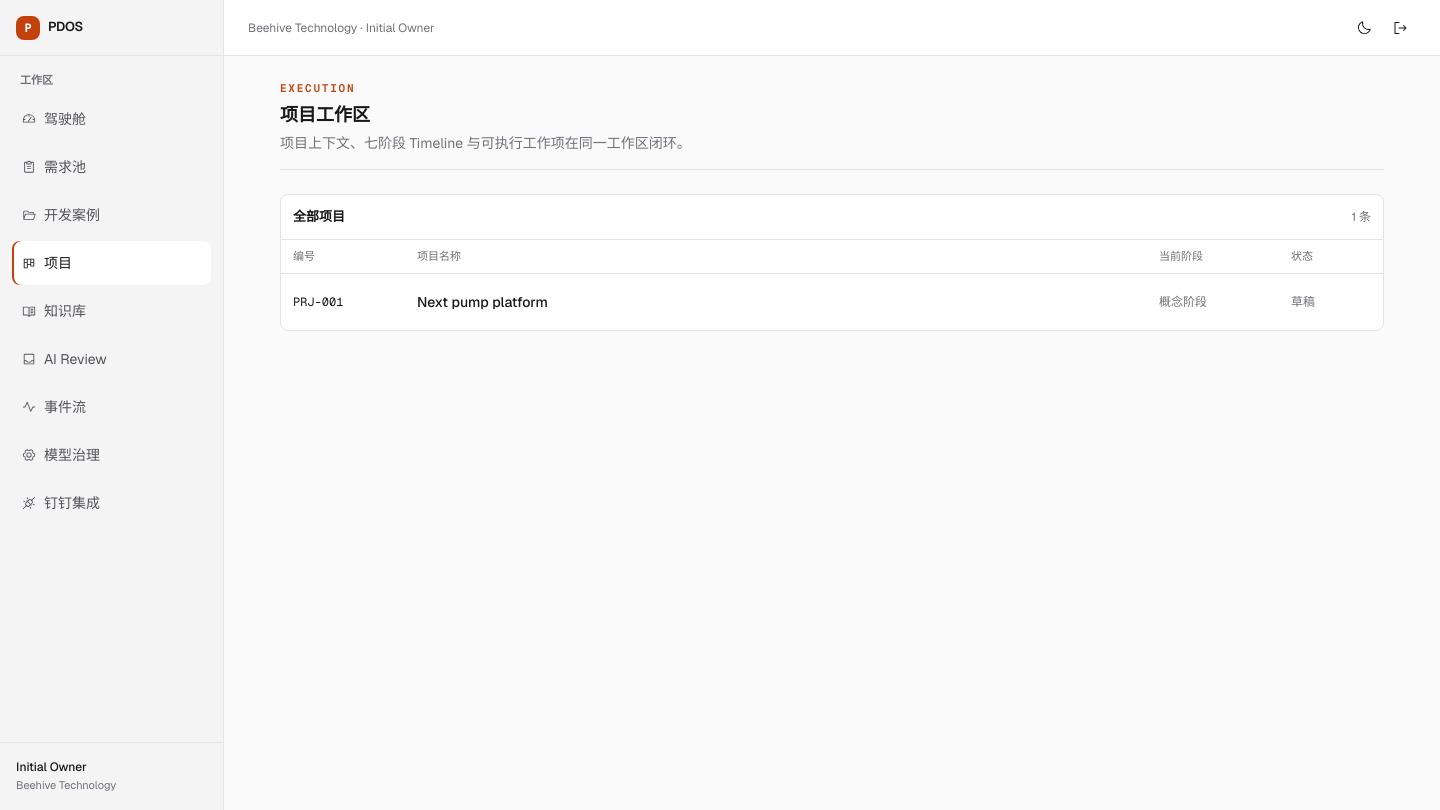
Test: ProjectWorkspace › renders the internal tabs and keeps dependency waiting distinct from blocked
The width and height of the screenshot is (1440, 810).
Click the button with aria-label "打开项目 PRJ-001". click: (318, 302)
box: [281,274,1383,330]
(page scrolled)
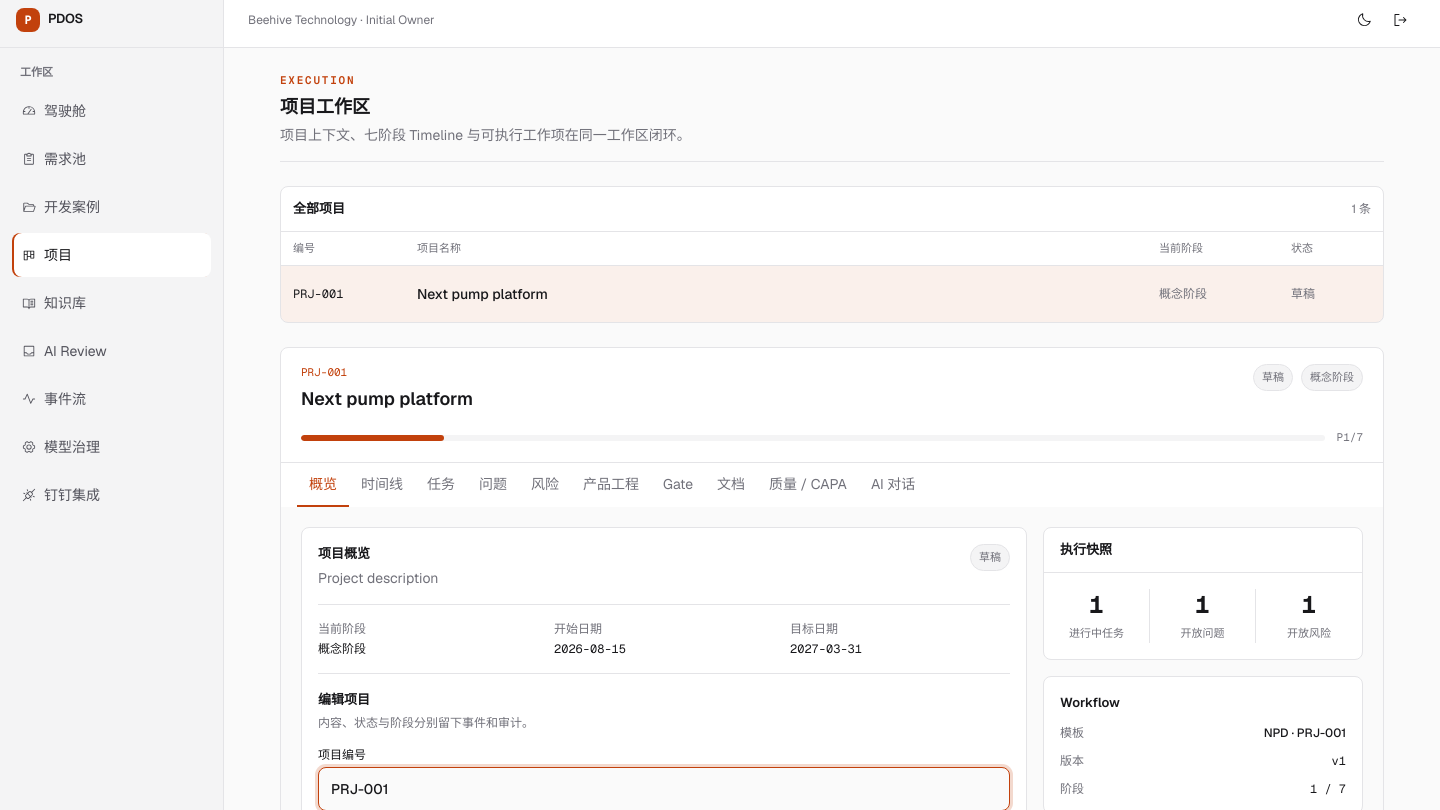
Expected: the number of tabs is 10
Expected: the tab "AI 对话" is shown, [859,463,927,507]
Expected: the tab "产品工程" is shown, [571,463,651,507]
Click the tab "任务". click: (441, 485)
box: [415,463,467,507]
(page scrolled)
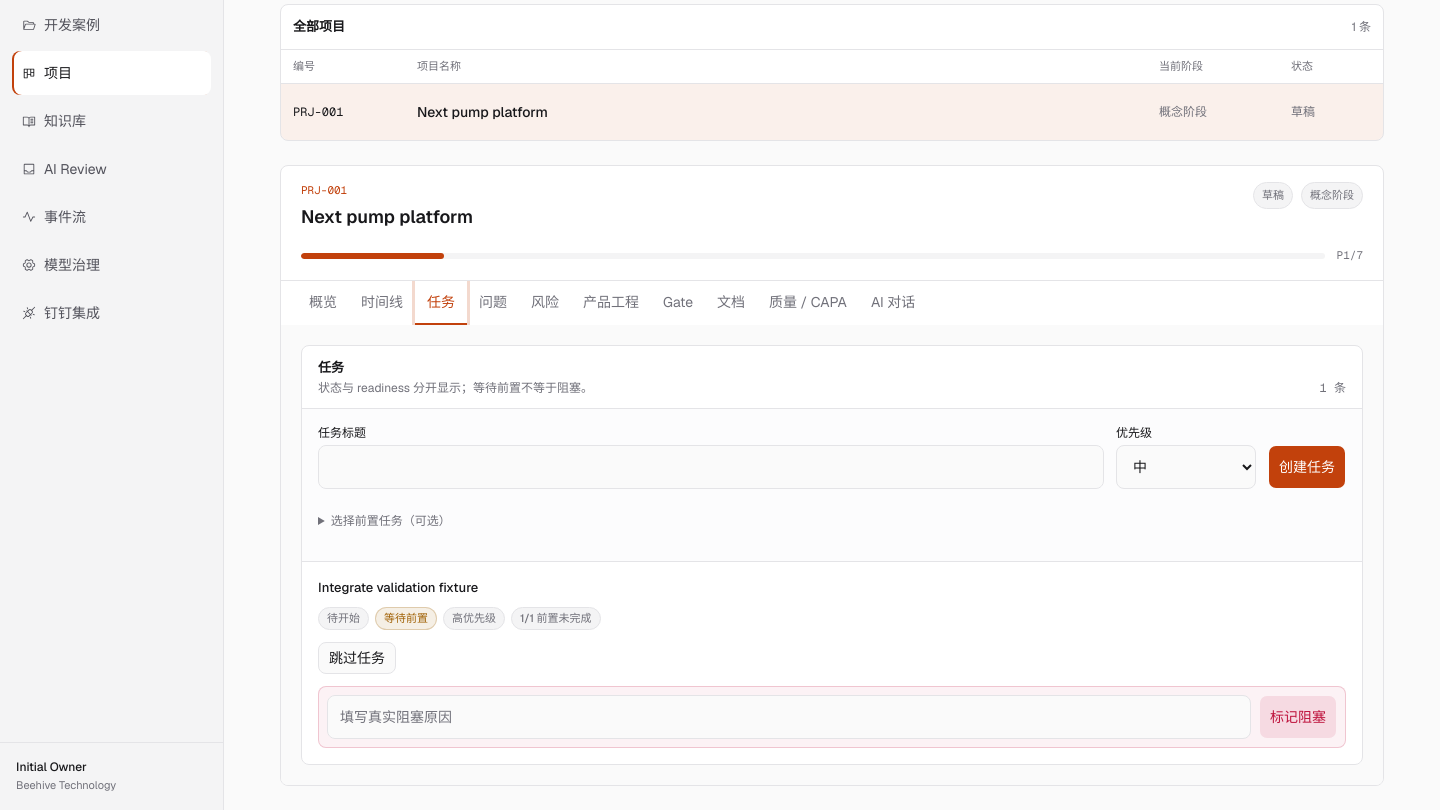
Expected: the text "Integrate validation fixture" is shown 2 times
Expected: the text "等待前置" is shown, [375,607,437,630]
